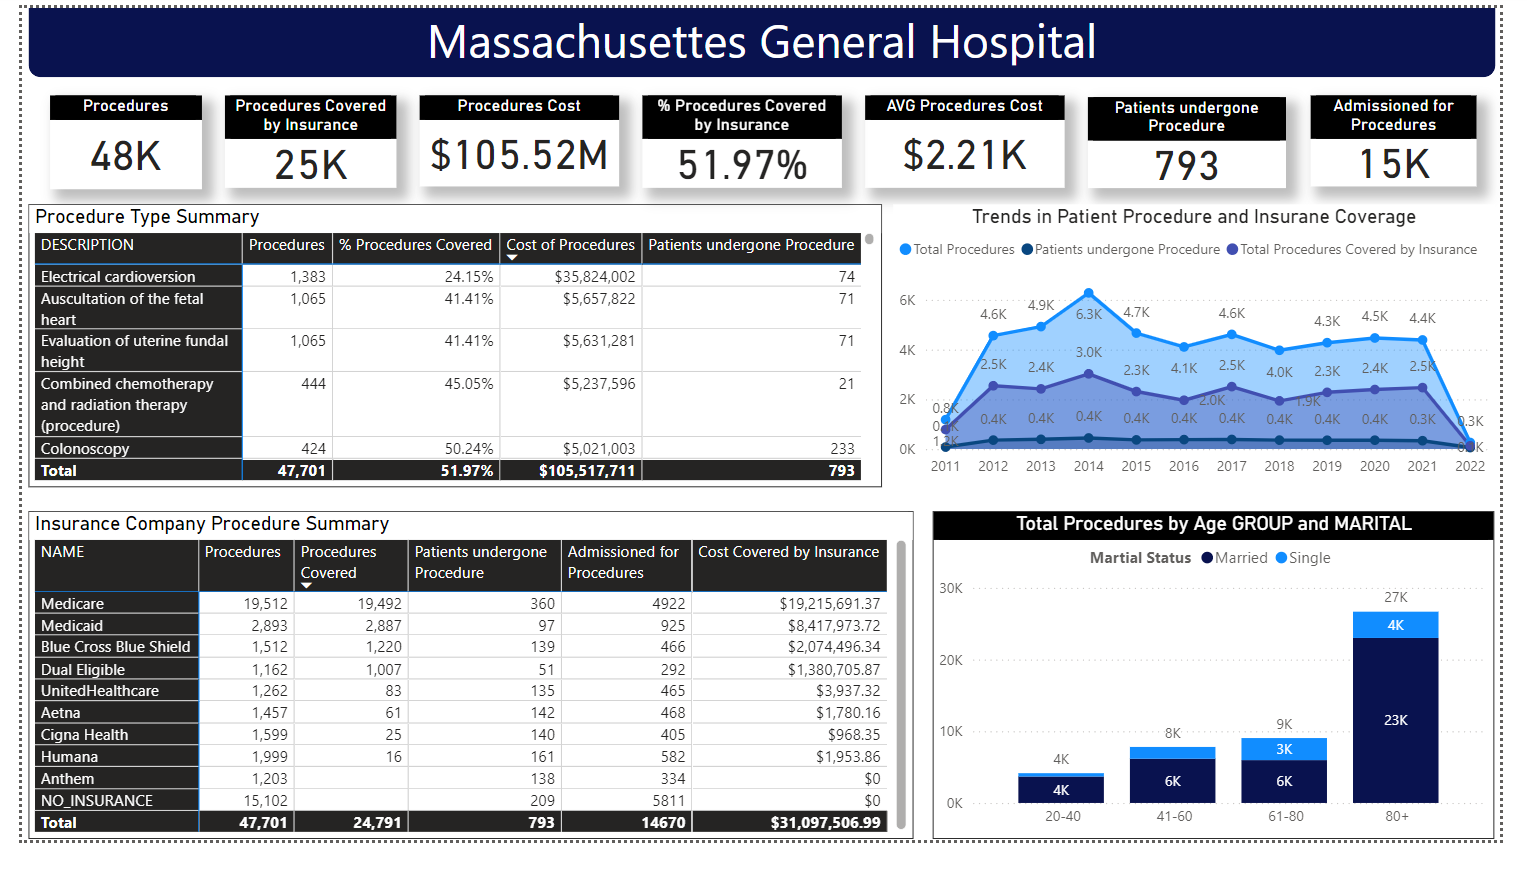

Layout of this report page (visuals, bound fields, positions):
{"tool":"powerbi","page":{"name":"Procedures","canvas":[1280,720],"ordinal":2},"visuals":[{"type":"shape","box":[5,0,1270,60],"z":0},{"type":"card","title":"Procedures","fields":{"Values":["Measure Table.Total Procedures"]},"box":[23.8,75,131.2,81.2],"z":1000},{"type":"card","title":"Procedures Covered by Insurance","fields":{"Values":["Measure Table.Total Procedures Covered by Insurance"]},"box":[175.4,75,148.8,80],"z":2000},{"type":"card","title":"Procedures Cost","fields":{"Values":["Measure Table.Total Cost of Procedures"]},"box":[344.6,75,172.5,78.8],"z":3000},{"type":"card","title":"AVG Procedures Cost","fields":{"Values":["Measure Table.AVG Cost of Procedures"]},"box":[730.4,76.2,172.5,80],"z":4000},{"type":"card","title":"Patients undergone Procedure","fields":{"Values":["Measure Table.Patients undergone Procedure"]},"box":[923.3,77.5,171.2,78.8],"z":5000},{"type":"card","title":"Admissioned for Procedures","fields":{"Values":["Measure Table.Admissions for Procedures"]},"box":[1115,76.2,143.8,78.8],"z":6000},{"type":"pivotTable","title":"Procedure Type Summary","fields":{"Rows":["procedures.DESCRIPTION"],"Values":["Measure Table.Total Procedures","Measure Table.% Procedures Covered by Insurance","Measure Table.Total Cost of Procedures","Measure Table.Patients undergone Procedure"]},"box":[5,170,738.8,245],"z":7000},{"type":"card","title":"% Procedures Covered by Insurance","fields":{"Values":["Measure Table.% Procedures Covered by Insurance"]},"box":[537.5,76.2,172.5,80],"z":8000},{"type":"pivotTable","title":"Insurance Company Procedure Summary","fields":{"Values":["Measure Table.Total Procedures","Measure Table.Total Procedures Covered by Insurance","Measure Table.Patients undergone Procedure","Measure Table.Admissions for Procedures","Measure Table.Cost Covered by Insurance"],"Rows":["payers.NAME"]},"box":[5,436.2,766.2,283.8],"z":9000},{"type":"columnChart","fields":{"Category":["patients.Age GROUP"],"Y":["Measure Table.Total Procedures"],"Series":["patients.MARITAL"]},"box":[788.8,436.2,486.2,283.8],"z":10000},{"type":"lineChart","title":"Trends in Patient Procedure and Insurane Coverage","fields":{"Category":["encounters.Encounter Year"],"Y":["Measure Table.Total Procedures","Measure Table.Patients undergone Procedure","Measure Table.Total Procedures Covered by Insurance"]},"box":[753.8,170,521.2,245],"z":11000}]}

Visuals, with their boxes on the page's 1280x720 design canvas (x1, y1, x2, y2). These are canvas units, not pixel positions in the 1527x891 screenshot, which may show the page scaled, cropped or inside an application window:
shape: crop(5, 0, 1275, 60)
"Procedures" card: crop(24, 75, 155, 156)
"Procedures Covered by Insurance" card: crop(175, 75, 324, 155)
"Procedures Cost" card: crop(345, 75, 517, 154)
"AVG Procedures Cost" card: crop(730, 76, 903, 156)
"Patients undergone Procedure" card: crop(923, 78, 1094, 156)
"Admissioned for Procedures" card: crop(1115, 76, 1259, 155)
"Procedure Type Summary" pivotTable: crop(5, 170, 744, 415)
"% Procedures Covered by Insurance" card: crop(538, 76, 710, 156)
"Insurance Company Procedure Summary" pivotTable: crop(5, 436, 771, 720)
columnChart - patients.Age GROUP x Measure Table.Total Procedures: crop(789, 436, 1275, 720)
"Trends in Patient Procedure and Insurane Coverage" lineChart: crop(754, 170, 1275, 415)
